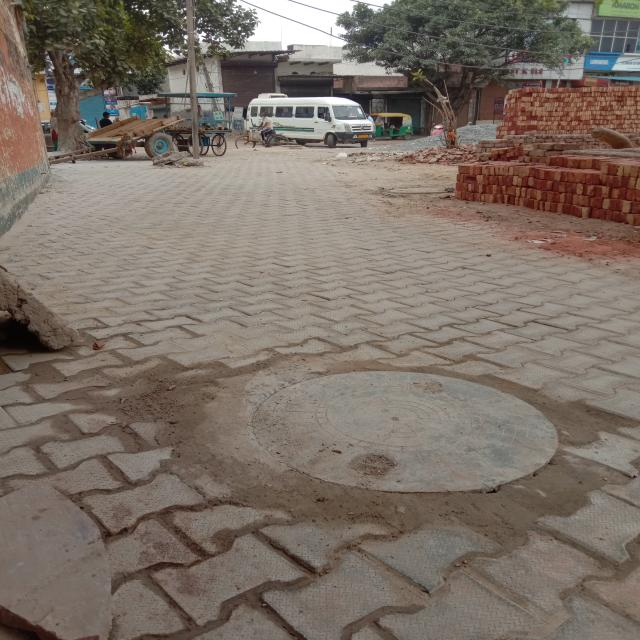Auto: (372, 112, 413, 139)
Traveller: (250, 94, 375, 148)
